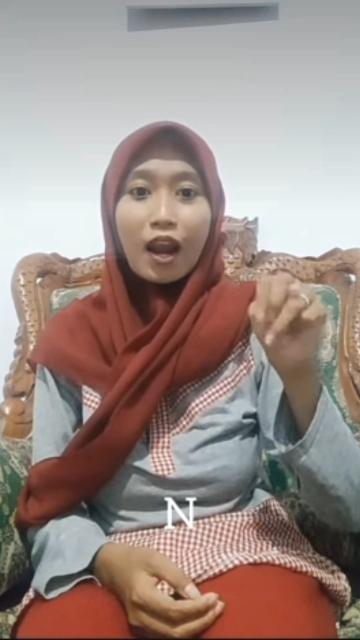N: (236, 264, 332, 372)
